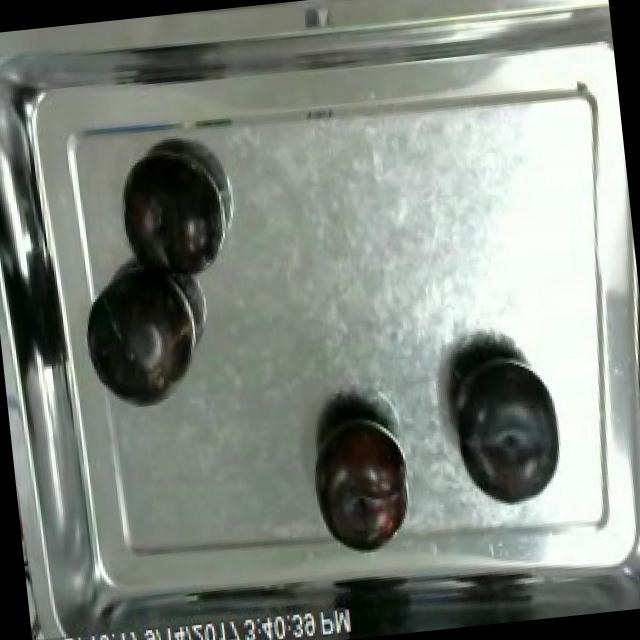Fruit: (434, 338, 577, 518), (76, 259, 204, 416), (302, 400, 418, 560), (116, 146, 227, 288)
